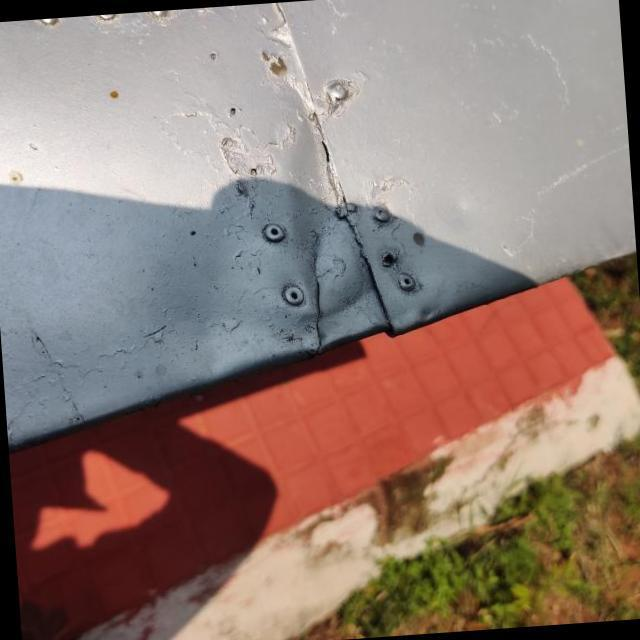Rupture: (279, 266, 344, 365)
